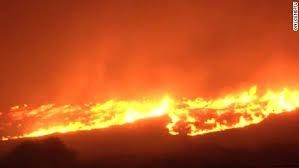fire: (0, 78, 262, 136)
